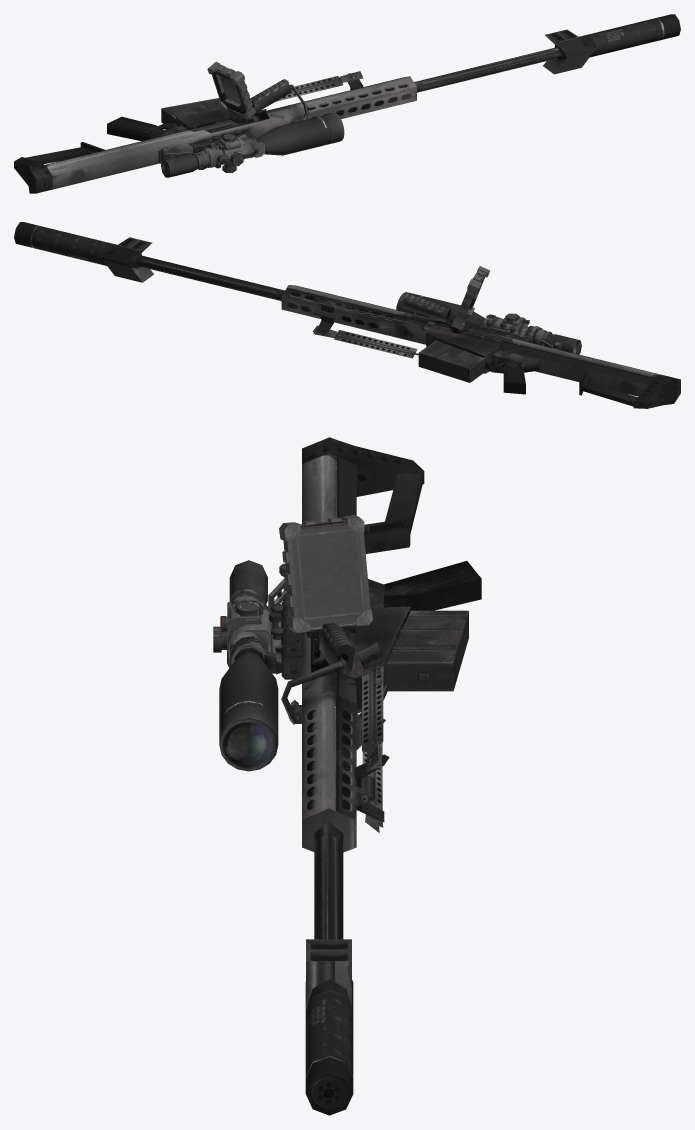
File: weapon_m82_arctic_LOD0.obj
The picture shows the model from 3 angles, top to bottom: view 1: azimuth 30°, elevation 25°; view 2: azimuth 150°, elevation 25°; view 3: azimuth 270°, elevation 25°; orthographic projection. The views are drawn at different scales.
Parts seen in each view (by area): view 1: mtl_weapon_m82_arctic, mtl_weapon_wa2000_scope, mtl_weapon_suppressor_b, mtl_weapon_motion_tracker_arctic, mtl_weapon_m82_muzzle_tip, mtl_weapon_acog_2_arctic, mtl_weapon_thermal_sight_2, mtl_weapon_m82_trans; view 2: mtl_weapon_m82_arctic, mtl_weapon_suppressor_b, mtl_weapon_wa2000_scope, mtl_weapon_m82_muzzle_tip, mtl_weapon_m82_trans, mtl_weapon_motion_tracker_arctic, mtl_weapon_thermal_sight_2, mtl_weapon_acog_2_arctic; view 3: mtl_weapon_m82_arctic, mtl_weapon_motion_tracker_arctic, mtl_weapon_wa2000_scope, mtl_weapon_suppressor_b, mtl_weapon_m82_muzzle_tip, mtl_weapon_m82_trans, mtl_weapon_thermal_sight_2, mtl_weapon_acog_2_arctic.
Boxes of the visible parts, left/top/right/bottom form: mtl_weapon_m82_arctic: left=14, top=47, right=561, bottom=193; mtl_weapon_wa2000_scope: left=161, top=113, right=344, bottom=177; mtl_weapon_suppressor_b: left=554, top=14, right=680, bottom=59; mtl_weapon_motion_tracker_arctic: left=207, top=61, right=255, bottom=124; mtl_weapon_m82_muzzle_tip: left=543, top=29, right=595, bottom=74; mtl_weapon_acog_2_arctic: left=192, top=130, right=258, bottom=168; mtl_weapon_thermal_sight_2: left=198, top=133, right=264, bottom=169; mtl_weapon_m82_trans: left=276, top=76, right=343, bottom=101; mtl_weapon_m82_arctic: left=135, top=255, right=680, bottom=408; mtl_weapon_suppressor_b: left=14, top=222, right=141, bottom=268; mtl_weapon_wa2000_scope: left=396, top=292, right=581, bottom=354; mtl_weapon_m82_muzzle_tip: left=101, top=237, right=154, bottom=282; mtl_weapon_m82_trans: left=334, top=304, right=417, bottom=358; mtl_weapon_motion_tracker_arctic: left=449, top=266, right=489, bottom=333; mtl_weapon_thermal_sight_2: left=484, top=314, right=541, bottom=343; mtl_weapon_acog_2_arctic: left=482, top=316, right=552, bottom=344; mtl_weapon_m82_arctic: left=268, top=437, right=481, bottom=939; mtl_weapon_motion_tracker_arctic: left=279, top=515, right=372, bottom=652; mtl_weapon_wa2000_scope: left=213, top=560, right=283, bottom=771; mtl_weapon_suppressor_b: left=305, top=979, right=353, bottom=1115; mtl_weapon_m82_muzzle_tip: left=306, top=939, right=351, bottom=1009; mtl_weapon_m82_trans: left=362, top=666, right=383, bottom=810; mtl_weapon_thermal_sight_2: left=227, top=591, right=281, bottom=668; mtl_weapon_acog_2_arctic: left=220, top=588, right=283, bottom=673.
Size of the model in its own units: 142 by 18.88 by 25.66.
